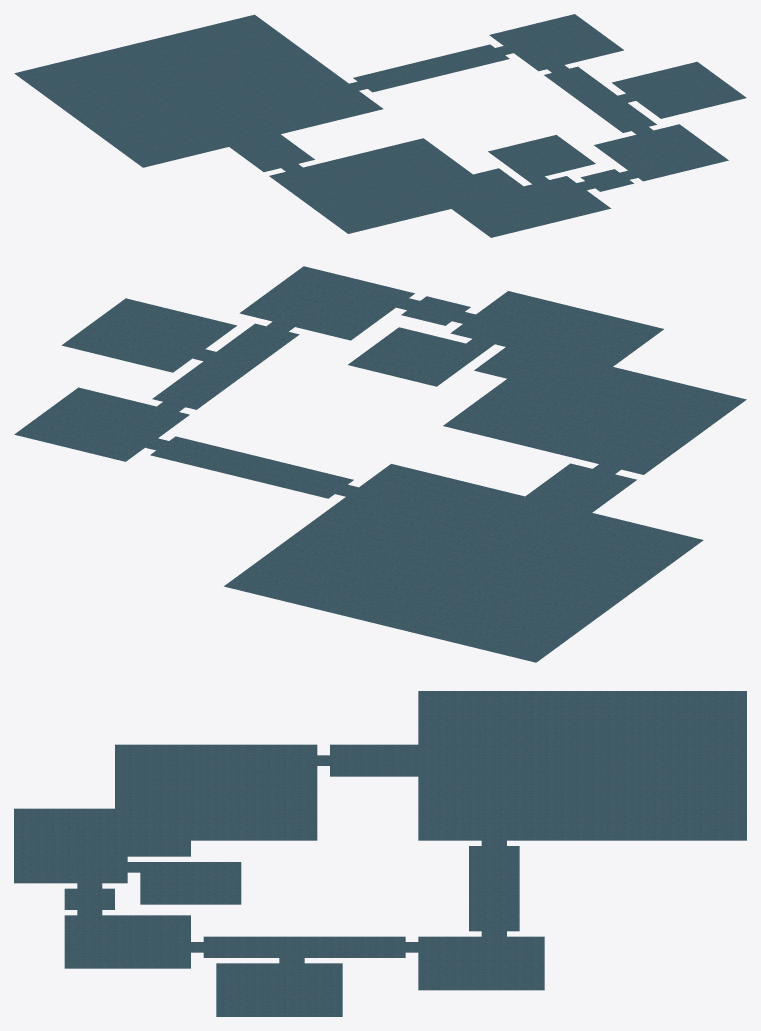
The model's file is chapel_floor.fbx.
The picture shows the model from 3 angles, top to bottom: view 1: azimuth 30°, elevation 25°; view 2: azimuth 150°, elevation 25°; view 3: azimuth 270°, elevation 25°; orthographic projection. The views are drawn at different scales.
Visible parts, largest first — view 1: 1house.001; view 2: 1house.001; view 3: 1house.001.
Boxes of the visible parts, bbox=[...] form: 1house.001: bbox=[14, 14, 746, 237]; 1house.001: bbox=[14, 266, 746, 662]; 1house.001: bbox=[14, 691, 746, 1016].
Bounding box in the file's own units: 3050 × 0.000472 × 2900.
1 material, 1 textured.
